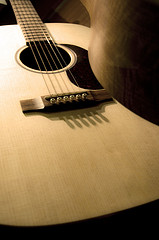guitar: (1, 1, 159, 240)
